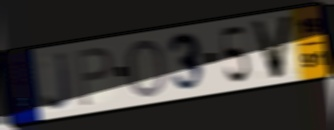3: (167, 29, 209, 96)
5: (218, 24, 251, 85)
J: (41, 49, 75, 113)
O: (125, 37, 169, 100)
P: (73, 45, 115, 109)
V: (248, 13, 296, 82)
